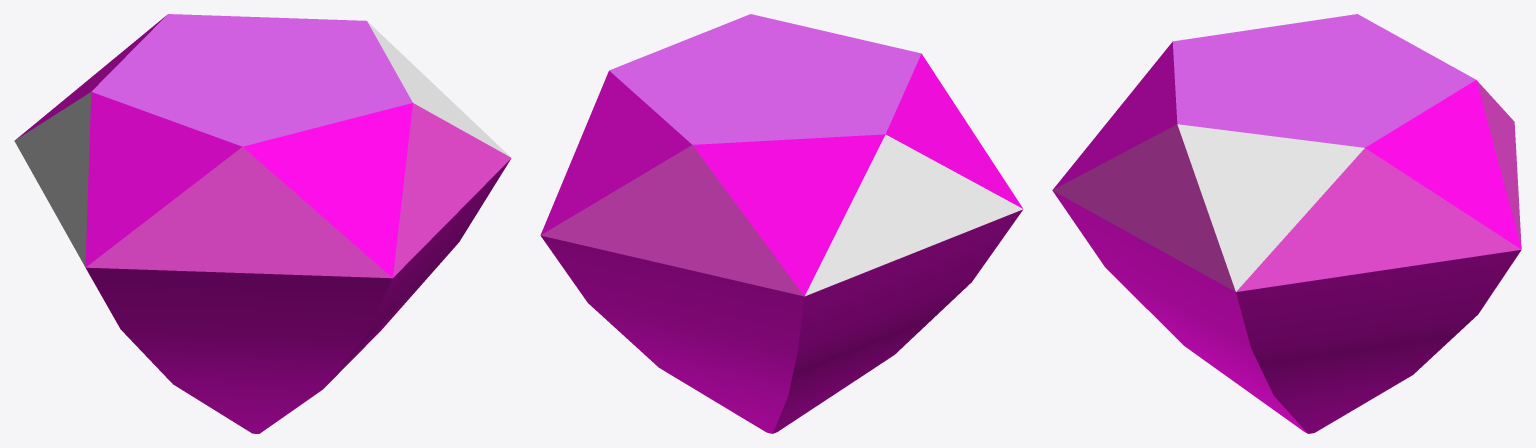
File: Diamond.fbx
3 views of the same model, side by side, from view 1: azimuth 30°, elevation 25°; view 2: azimuth 150°, elevation 25°; view 3: azimuth 270°, elevation 25° (orthographic). The views are drawn at different scales.
Parts seen in each view (by area): view 1: Diamond; view 2: Diamond; view 3: Diamond.
Part boxes in pixels (box(x1,y1,x2,y2)): Diamond: box(14, 14, 511, 433); Diamond: box(540, 14, 1023, 433); Diamond: box(1052, 14, 1521, 433).
Bounding box in the file's own units: 37.48 × 29.57 × 35.92.
